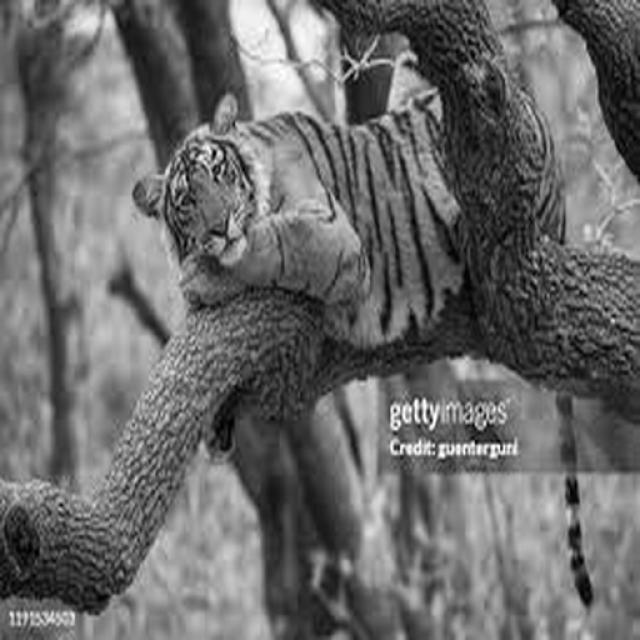Tiger: (132, 52, 638, 628)
